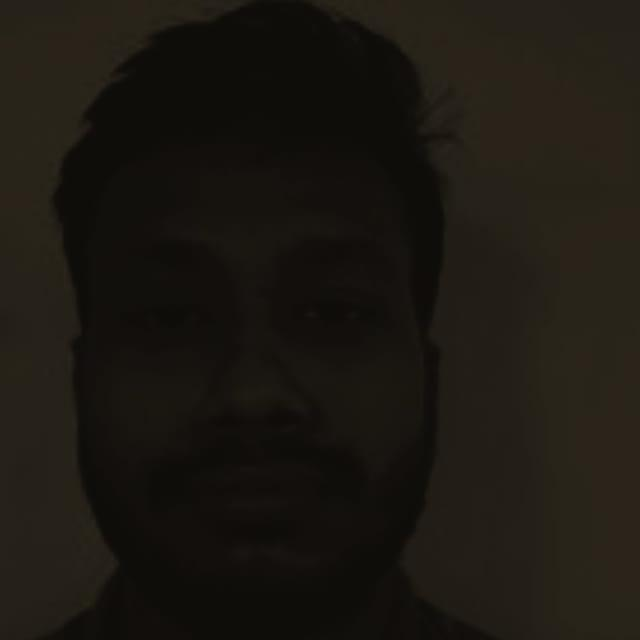Natural: (55, 57, 501, 625)
